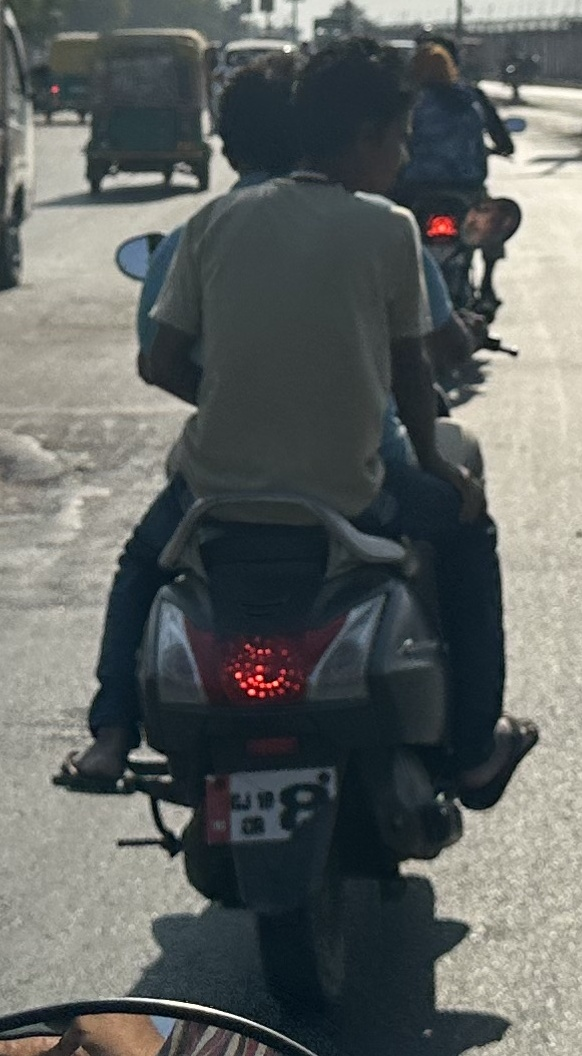BikeWithRider: (44, 23, 552, 1034)
NoHelmet: (284, 31, 426, 205), (208, 59, 305, 191)
